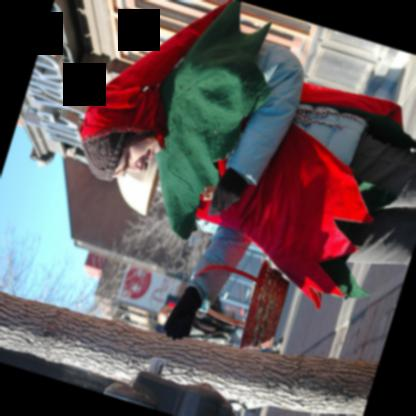handbag: (192, 254, 289, 346)
